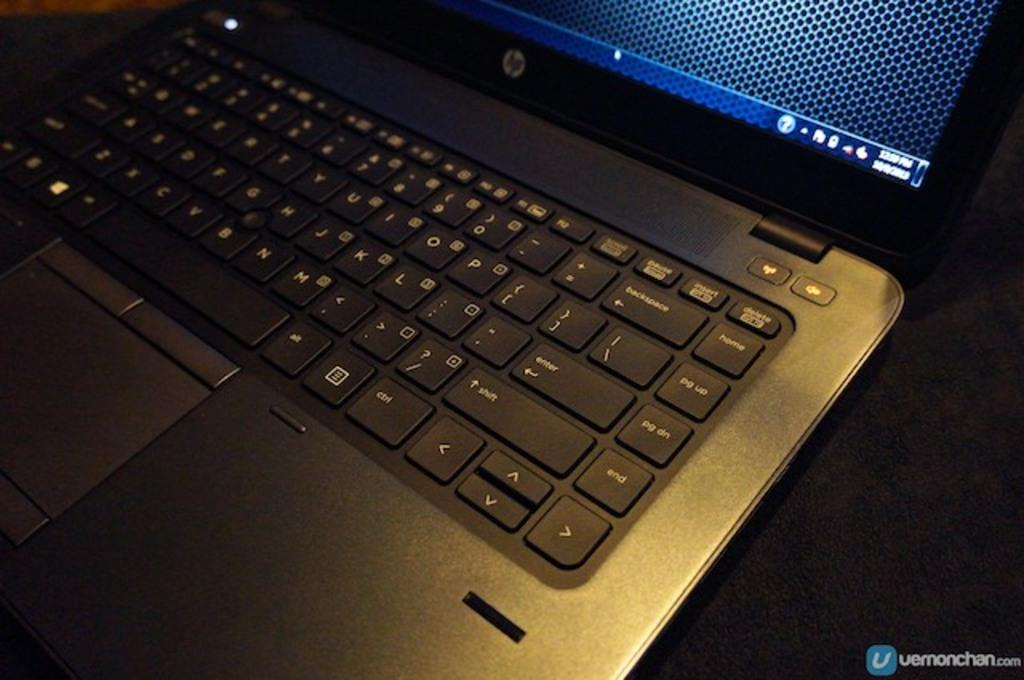Computer-keyboard: (0, 10, 786, 573)
